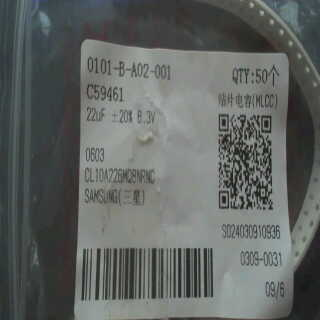22uF: (85, 105, 106, 124)
